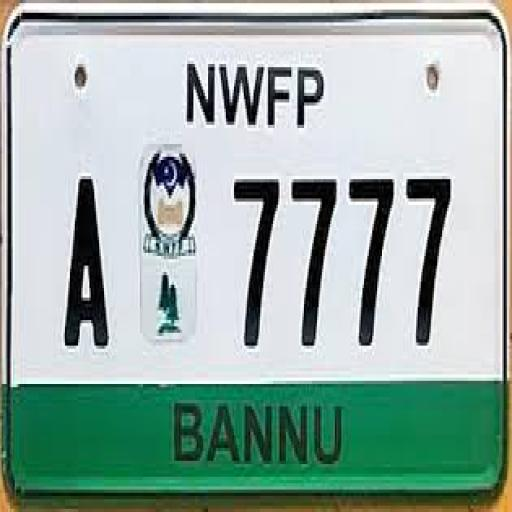7: (222, 162, 282, 347), (406, 162, 460, 349), (291, 178, 342, 362), (349, 164, 396, 354)
A: (62, 180, 112, 351)
